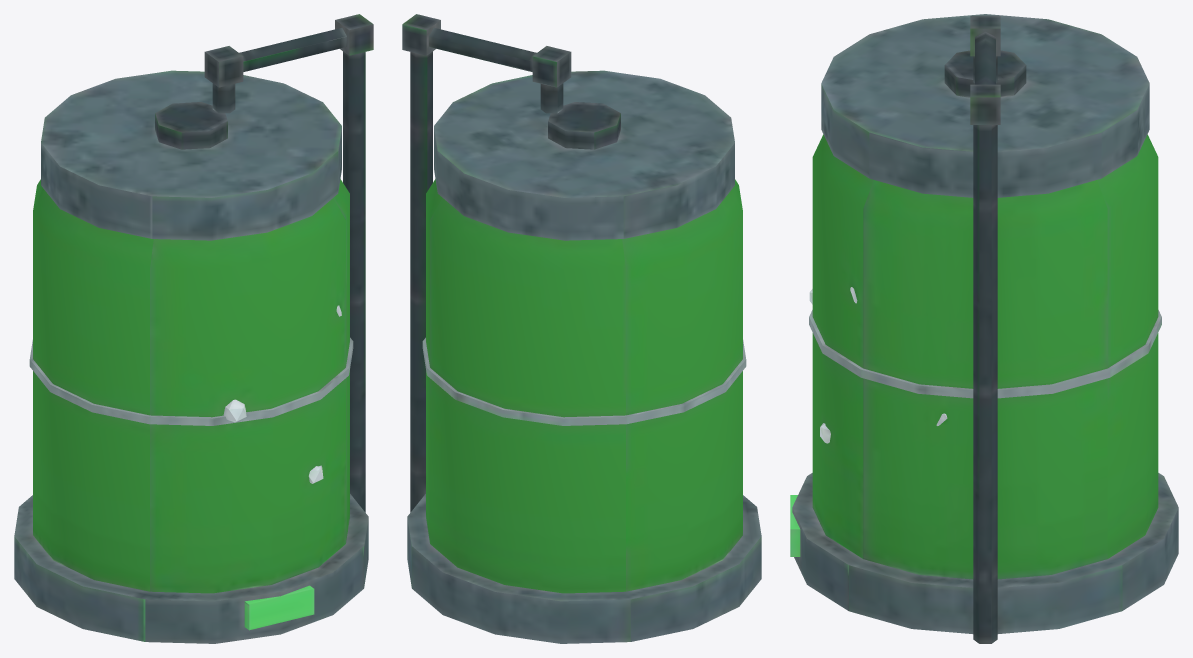
File: algae.glb
3 renders of one model, left to right at view 1: azimuth 30°, elevation 25°; view 2: azimuth 150°, elevation 25°; view 3: azimuth 270°, elevation 25°, orthographic. The views are drawn at different scales.
Parts seen in each view (by area): view 1: te_res_algae; view 2: te_res_algae; view 3: te_res_algae.
Boxes of the visible parts, x1=… form: te_res_algae: x1=14, y1=14, x2=373, y2=643; te_res_algae: x1=402, y1=14, x2=761, y2=643; te_res_algae: x1=790, y1=14, x2=1178, y2=643.
Size of the model in its own units: 0.405 by 0.595 by 0.382.
1 material, 1 textured.
